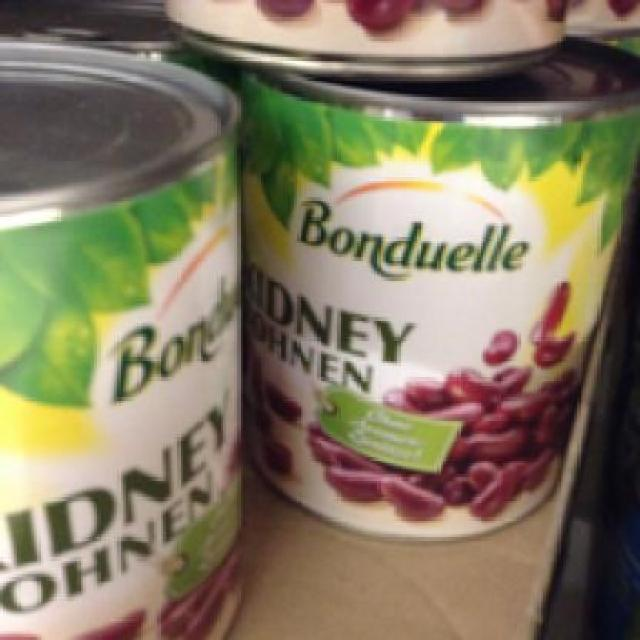Beans: (234, 37, 637, 546), (0, 61, 235, 635)
